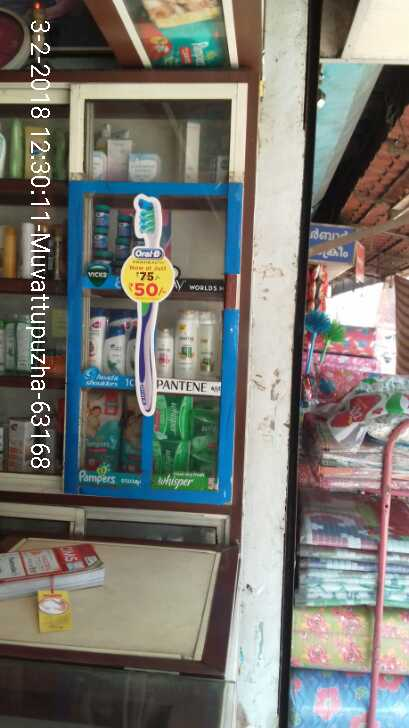vicks: (91, 201, 143, 284)
